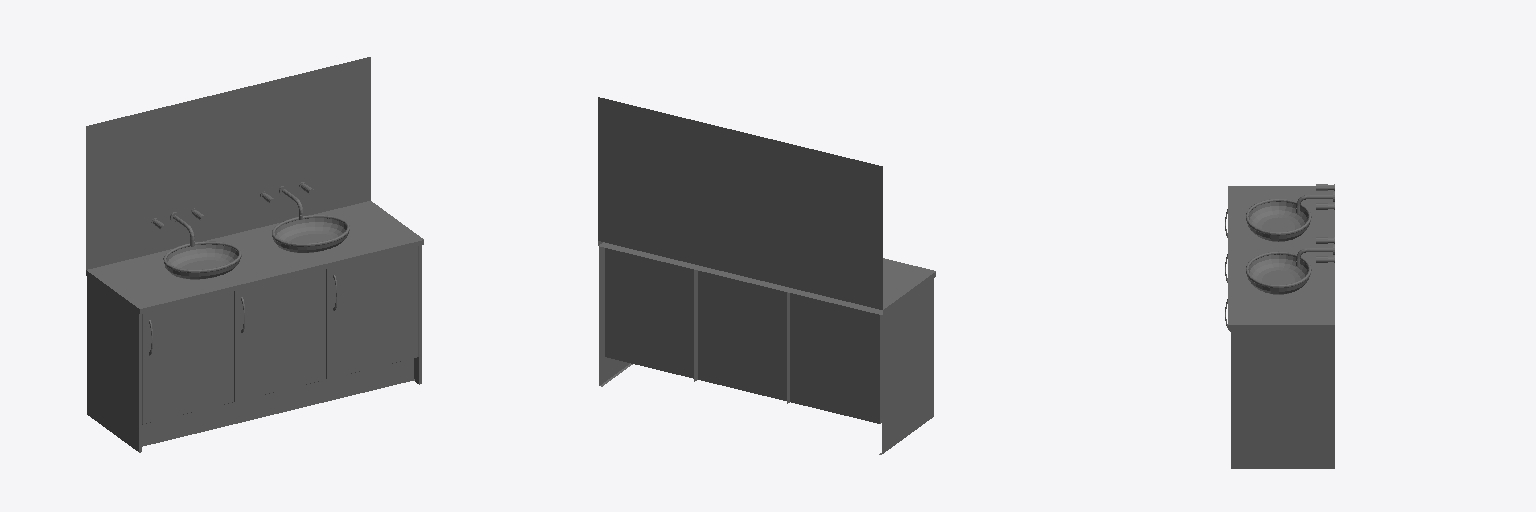
The model's file is Bath_Cabinet.obj.
3 views of the same model, side by side, from view 1: azimuth 30°, elevation 25°; view 2: azimuth 150°, elevation 25°; view 3: azimuth 270°, elevation 25° (orthographic).
Visible parts, largest first — view 1: Mesh; view 2: Mesh; view 3: Mesh.
Part boxes in pixels (x1,y1,x2,y2): Mesh: (86,57,423,452); Mesh: (598,97,935,454); Mesh: (1225,184,1334,468).
Bounding box in the file's own units: 2.31 × 2.24 × 0.775.